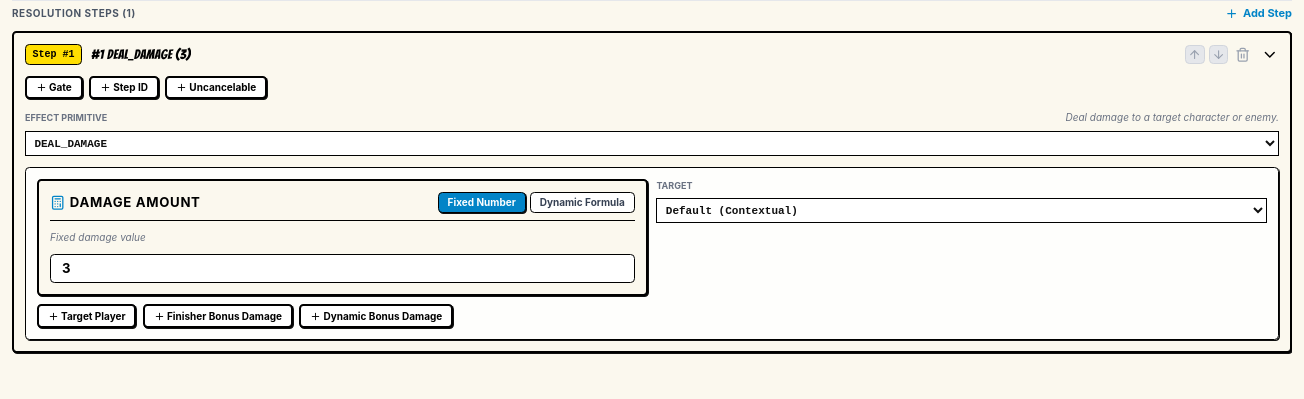
Compact Step Pipeline Summaries (Task 4.3) › StepPipelineEditor Summary Rows & Expansion › auto-expands newly added steps
The width and height of the screenshot is (1304, 399).
Expected: the dropdown with test id "step-effect-select-0-0" is shown, [25,131,1279,156]
Click Add Step
Click the button with test id "add-step-btn-0" at (1259, 14), box [1225,5,1292,22]
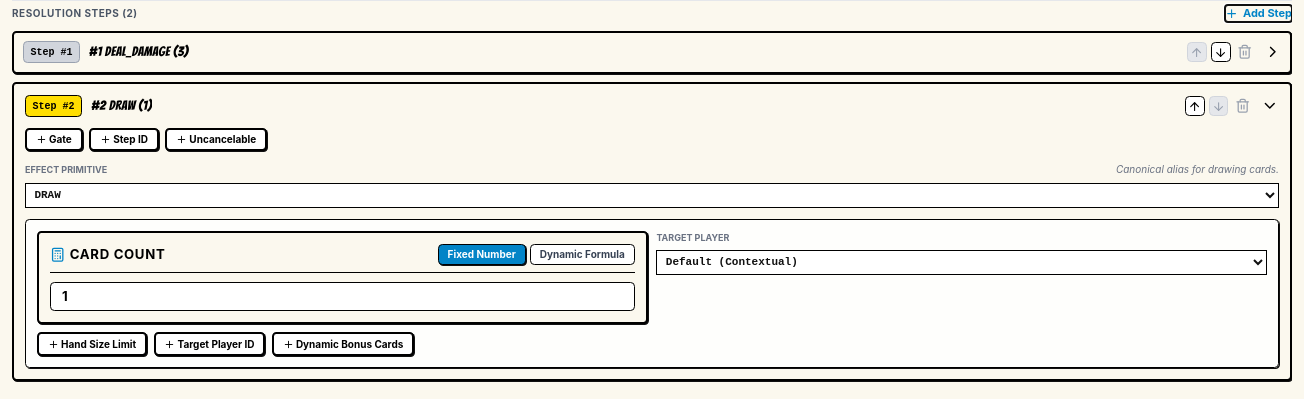
Now the dropdown with test id "step-effect-select-0-1" is shown, box [25,183,1279,208]
Now the dropdown with test id "step-effect-select-0-0" is gone
